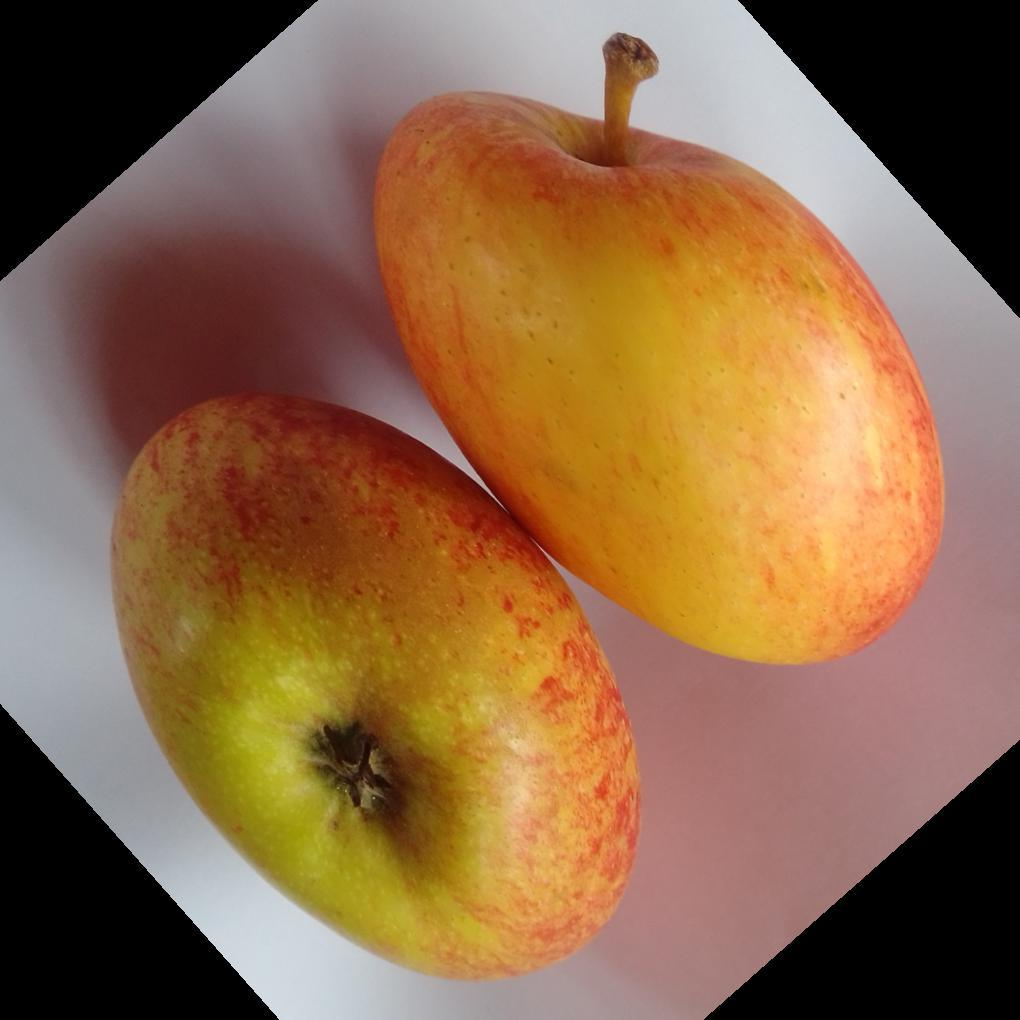FreshGuava: (107, 34, 947, 986)
